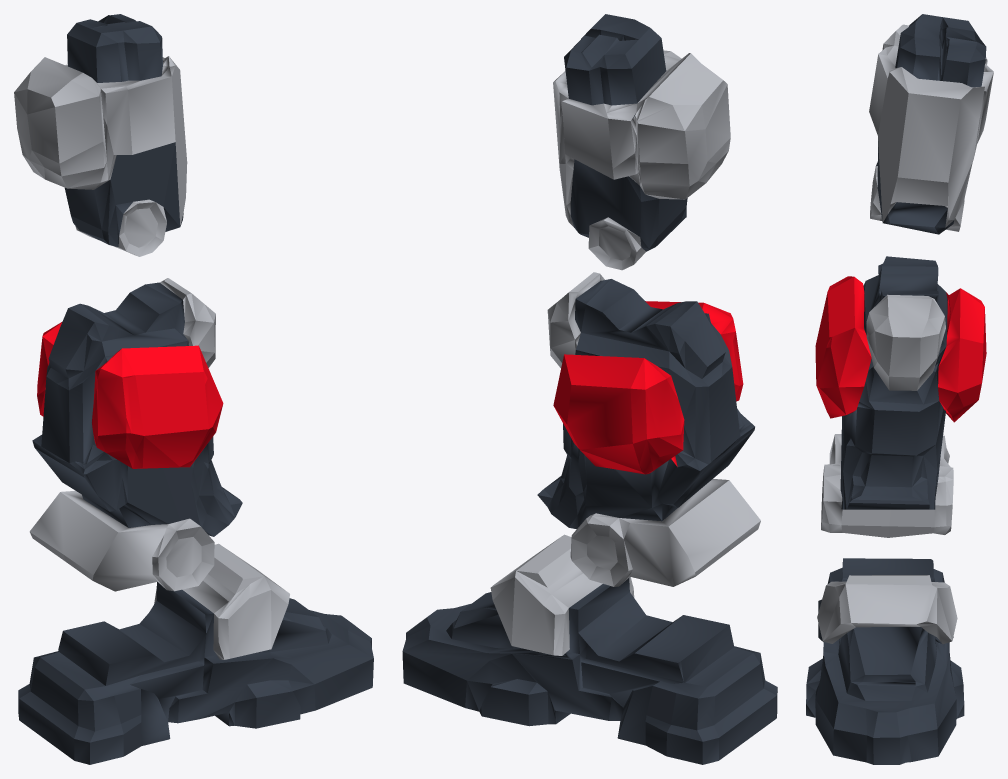
The model's file is Robot-leg.fbx.
The picture shows the model from 3 angles, left to right: view 1: azimuth 30°, elevation 25°; view 2: azimuth 150°, elevation 25°; view 3: azimuth 270°, elevation 25°; orthographic projection. The views are drawn at different scales.
Visible parts, largest first — view 1: leg.002, leg, leg.001; view 2: leg.002, leg, leg.001; view 3: leg.002, leg, leg.001.
Boxes of the visible parts, x1=… form: leg.002: x1=29, y1=278, x2=242, y2=591; leg: x1=18, y1=543, x2=373, y2=764; leg.001: x1=14, y1=14, x2=187, y2=256; leg.002: x1=537, y1=272, x2=760, y2=586; leg: x1=402, y1=534, x2=777, y2=764; leg.001: x1=553, y1=14, x2=730, y2=270; leg.002: x1=815, y1=256, x2=986, y2=537; leg: x1=806, y1=558, x2=964, y2=764; leg.001: x1=869, y1=14, x2=993, y2=234.
Size of the model in its own units: 66.56 by 135 by 35.92.
